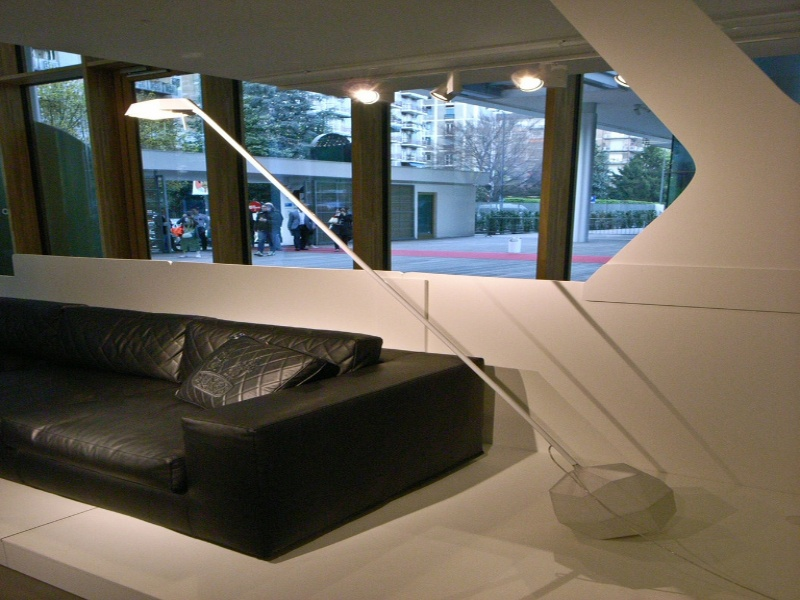couch: (1, 284, 497, 586)
